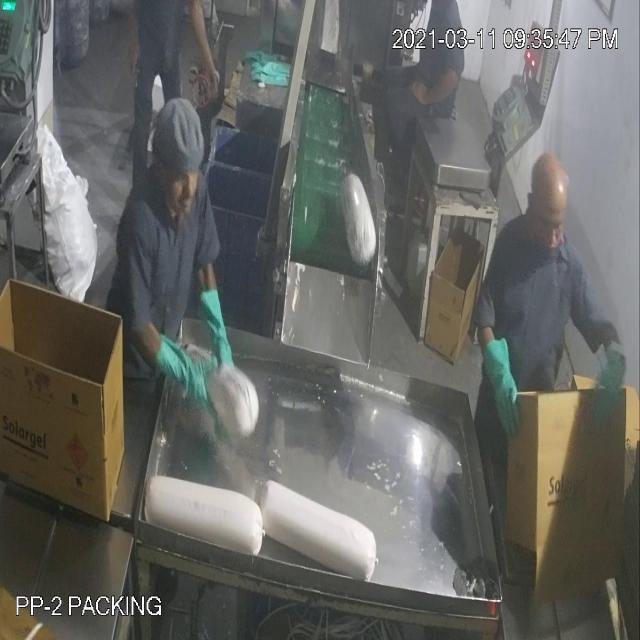No_Gloves: (40, 49, 608, 384)
